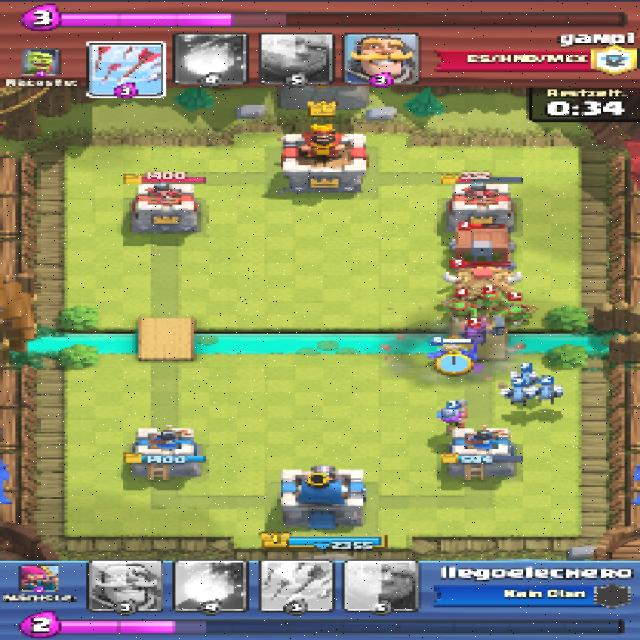Enemy-GoblinHut: (433, 269, 522, 309)
Enemy-MiniPEKKA: (456, 323, 505, 343)
Enemy-SpearGoblin: (502, 305, 535, 324), (446, 299, 473, 318), (482, 293, 502, 314)
Player-GoblinCage: (445, 226, 519, 267)
Player-MiniPEKKA: (428, 345, 477, 367)
Player-Minion: (500, 383, 534, 406), (532, 381, 564, 402), (511, 370, 542, 387)
Player-Musketeer: (432, 401, 469, 428)
